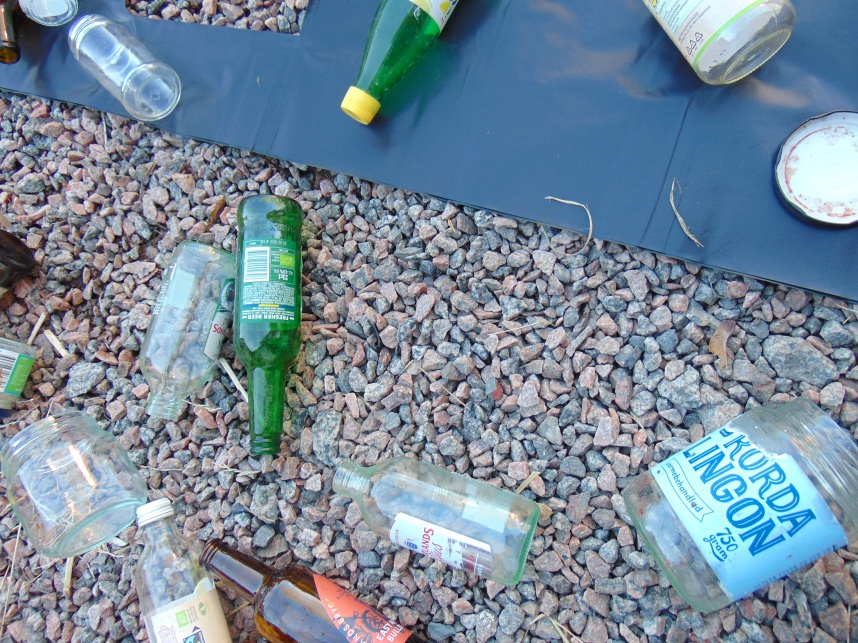glass_bottle: (620, 395, 858, 611), (331, 454, 538, 582), (199, 535, 425, 643), (1, 407, 148, 560), (235, 195, 303, 457), (141, 241, 237, 422), (341, 1, 460, 127), (131, 497, 233, 643), (640, 1, 796, 88), (65, 12, 184, 122), (1, 329, 35, 420), (1, 228, 31, 311), (17, 1, 79, 28), (1, 1, 22, 68)
metal: (773, 107, 858, 226)
